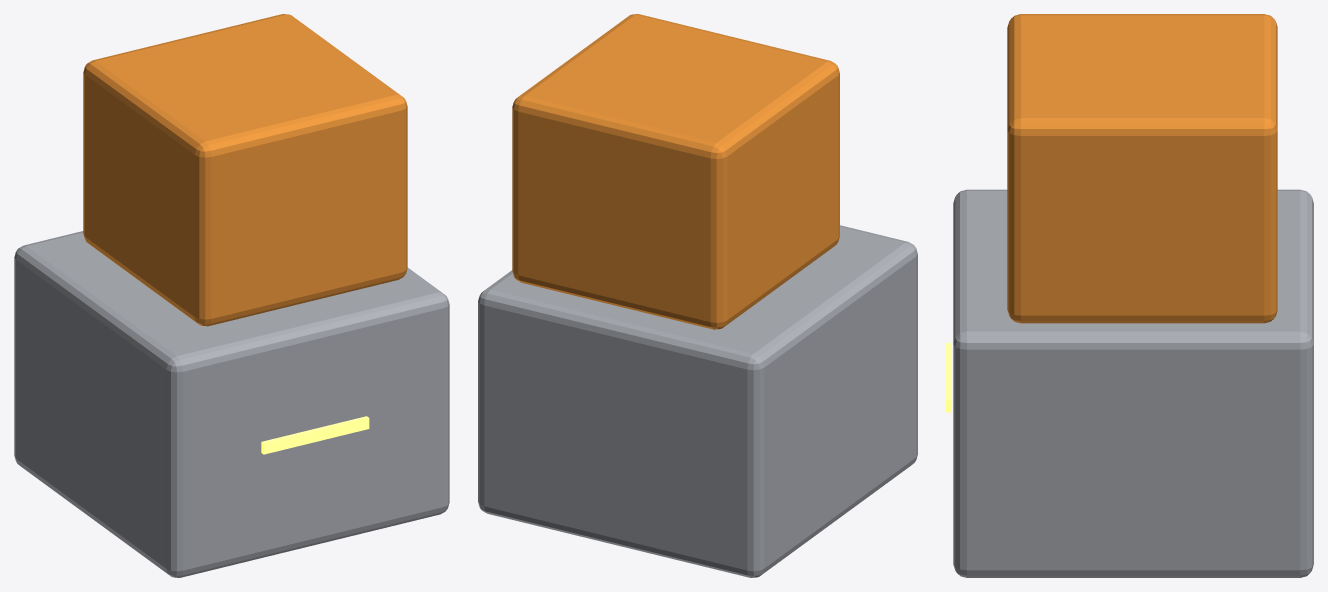
Rendered from cargo_crate_stack_two.glb.
3 renders of one model, left to right at view 1: azimuth 30°, elevation 25°; view 2: azimuth 150°, elevation 25°; view 3: azimuth 270°, elevation 25°, orthographic. The views are drawn at different scales.
Visible parts, largest first — view 1: GD_cargo_crate_stack_two__m0, GD_cargo_crate_stack_two__m1, GD_cargo_crate_stack_two__m2; view 2: GD_cargo_crate_stack_two__m0, GD_cargo_crate_stack_two__m1; view 3: GD_cargo_crate_stack_two__m0, GD_cargo_crate_stack_two__m1.
Part boxes in pixels (x1,y1,x2,y2): GD_cargo_crate_stack_two__m0: [14, 231, 449, 577]; GD_cargo_crate_stack_two__m1: [83, 14, 407, 326]; GD_cargo_crate_stack_two__m2: [261, 416, 369, 454]; GD_cargo_crate_stack_two__m0: [478, 225, 917, 577]; GD_cargo_crate_stack_two__m1: [512, 14, 839, 329]; GD_cargo_crate_stack_two__m0: [953, 189, 1313, 577]; GD_cargo_crate_stack_two__m1: [1007, 14, 1277, 323].
Bounding box in the file's own units: 0.8 × 1.1 × 0.816.
